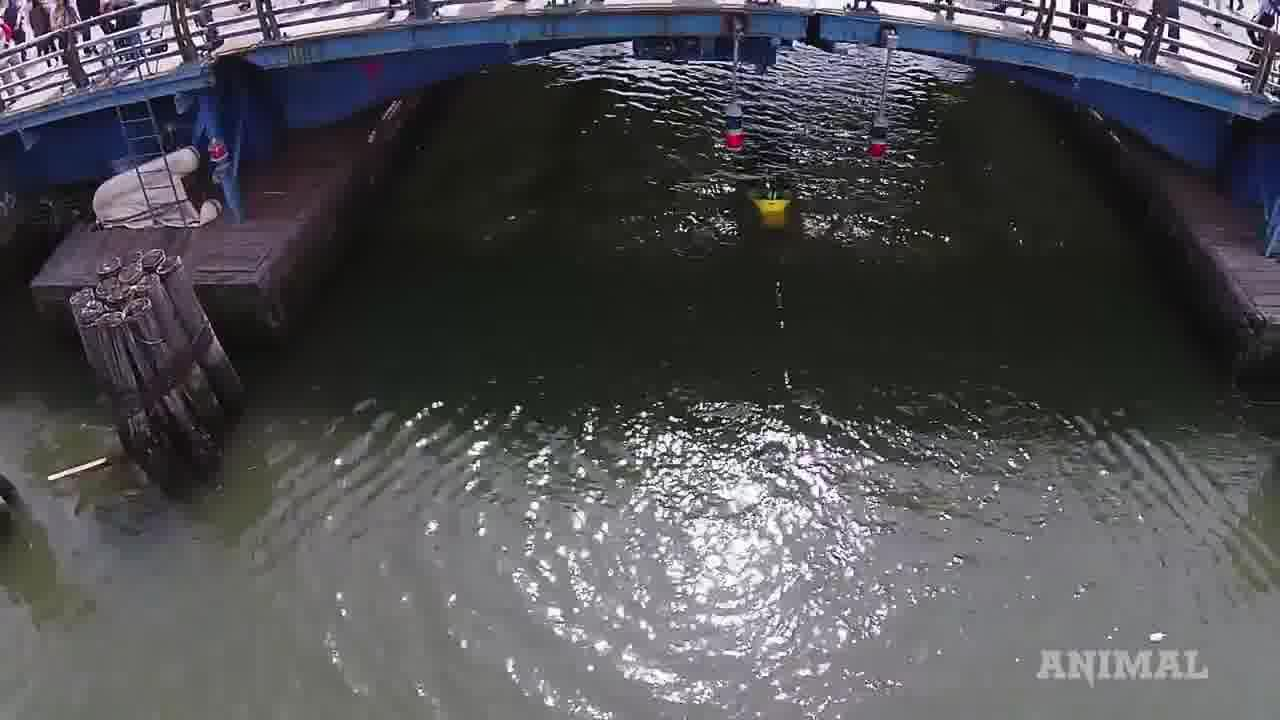human: (743, 184, 798, 230)
